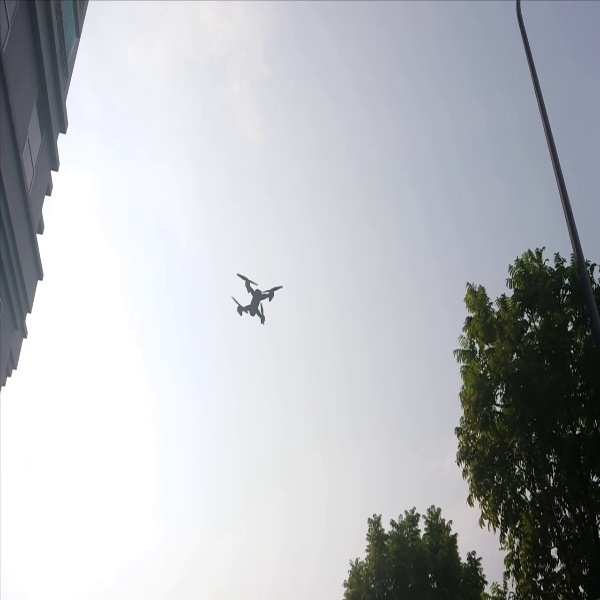drone: (218, 263, 287, 329)
